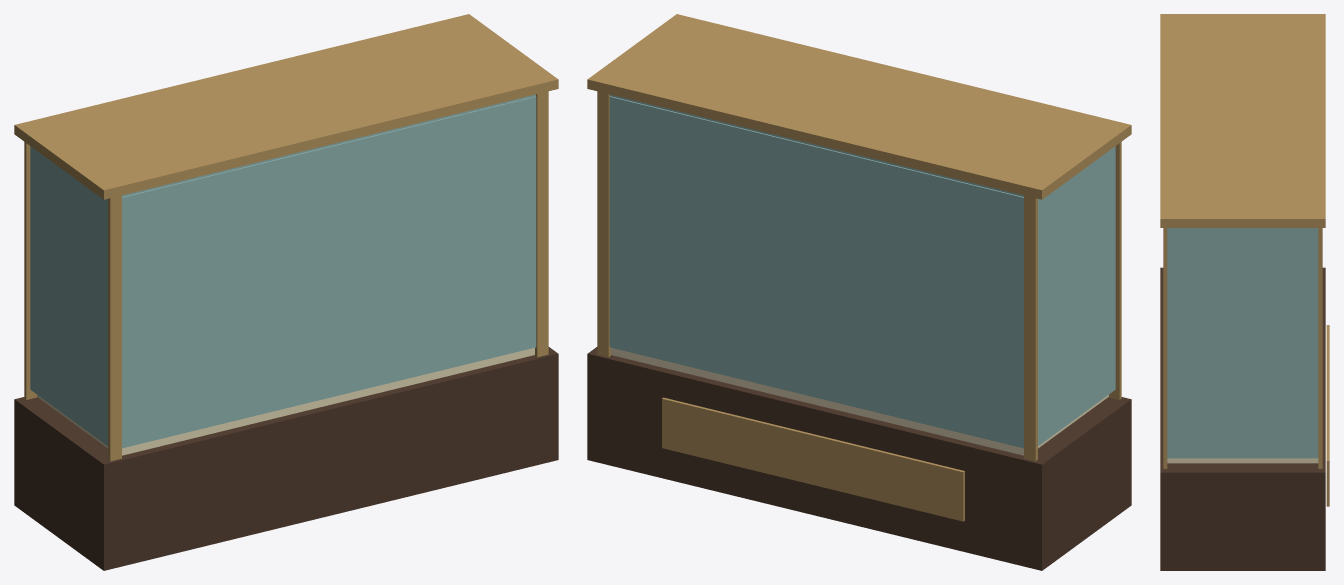
File: LP_AsianHeritage_WallCase.fbx
3 views of the same model, side by side, from view 1: azimuth 30°, elevation 25°; view 2: azimuth 150°, elevation 25°; view 3: azimuth 270°, elevation 25° (orthographic). The views are drawn at different scales.
Visible parts, largest first — view 1: M_Museum_DisplayGlass, Walnut, AgedBrass, WarmIvory; view 2: M_Museum_DisplayGlass, AgedBrass, Walnut, WarmIvory; view 3: AgedBrass, M_Museum_DisplayGlass, Walnut, WarmIvory.
Boxes of the visible parts, x1,y1,x2,y2 form: M_Museum_DisplayGlass: (30,94,536,448); Walnut: (14,347,558,570); AgedBrass: (14,14,558,461); WarmIvory: (37,347,534,455); M_Museum_DisplayGlass: (609,94,1115,448); AgedBrass: (587,14,1131,521); Walnut: (587,347,1131,570); WarmIvory: (611,347,1108,455); AgedBrass: (1160,14,1329,506); M_Museum_DisplayGlass: (1167,228,1318,458); Walnut: (1160,267,1325,570); WarmIvory: (1167,458,1318,463).
Bounding box in the file's own units: 200 × 160 × 69.79.
